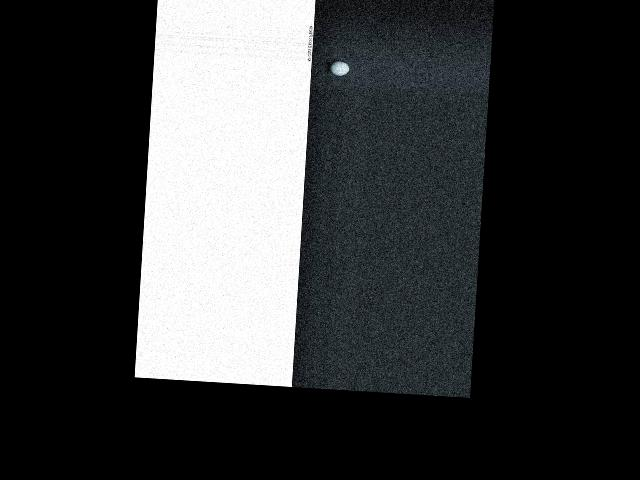egg: (329, 60, 349, 76)
